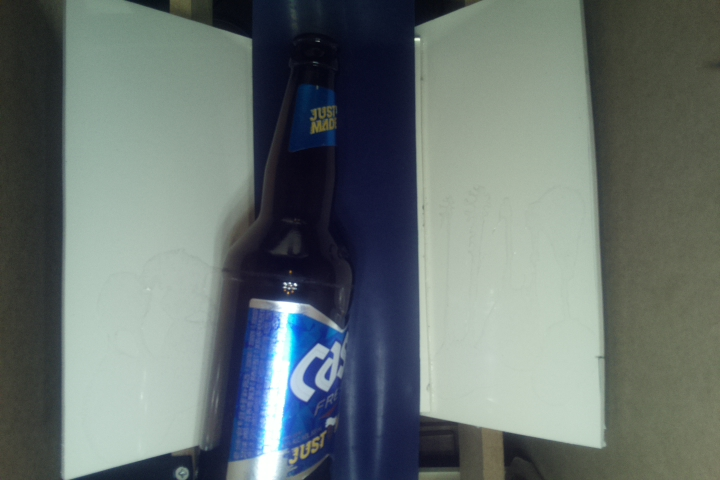makju: (191, 34, 367, 480)
